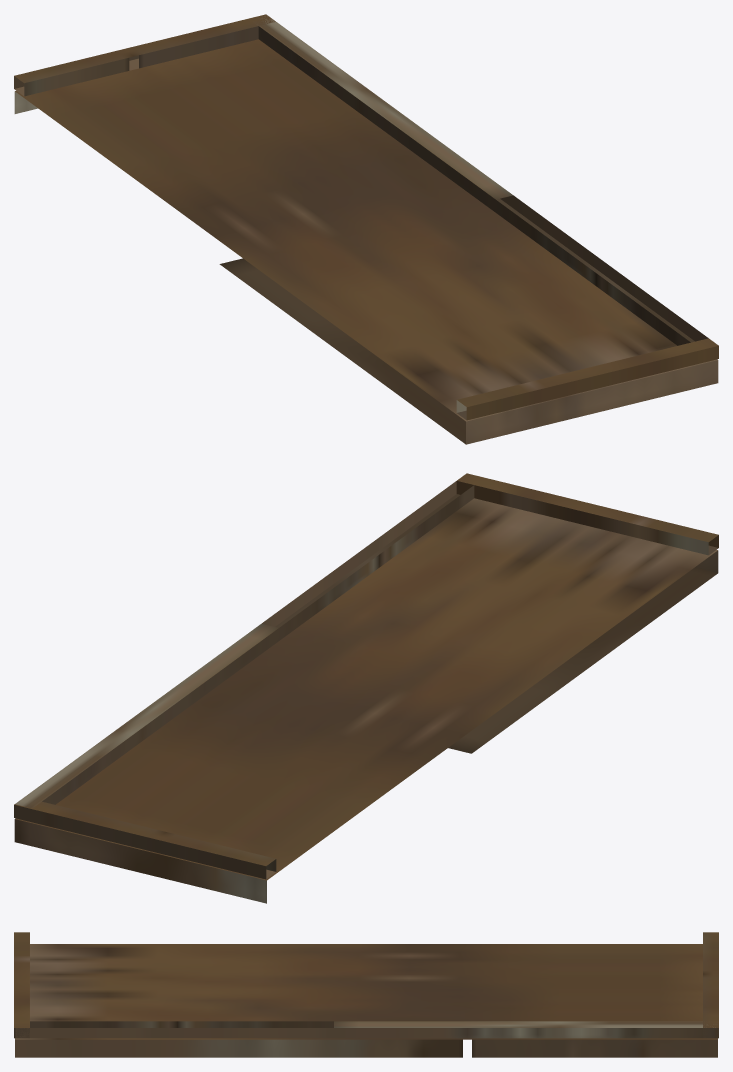
File: section-6.obj
3 renders of one model, top to bottom at view 1: azimuth 30°, elevation 25°; view 2: azimuth 150°, elevation 25°; view 3: azimuth 270°, elevation 25°, orthographic. The views are drawn at different scales.
Size of the model in its own units: 0.4 by 0.0575 by 1.24.
